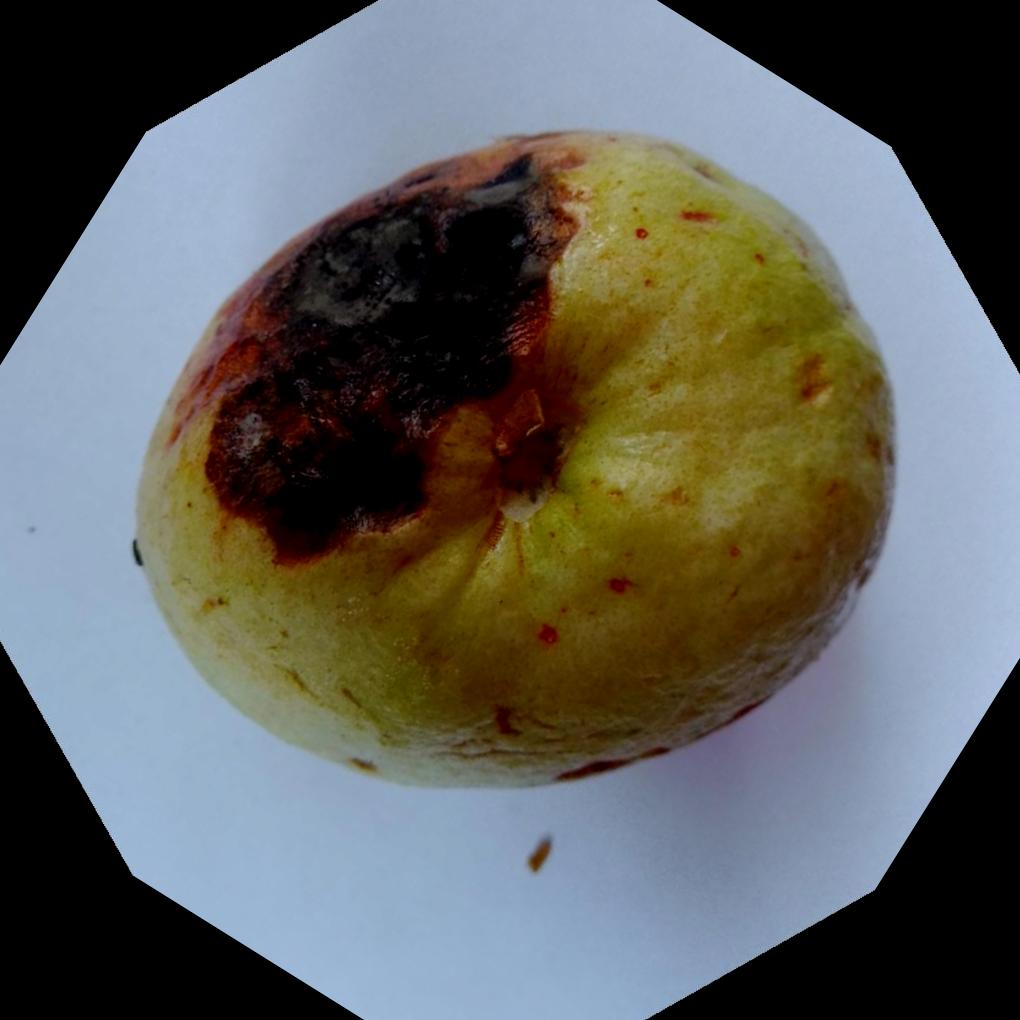FreshOrange: (128, 128, 895, 795)
